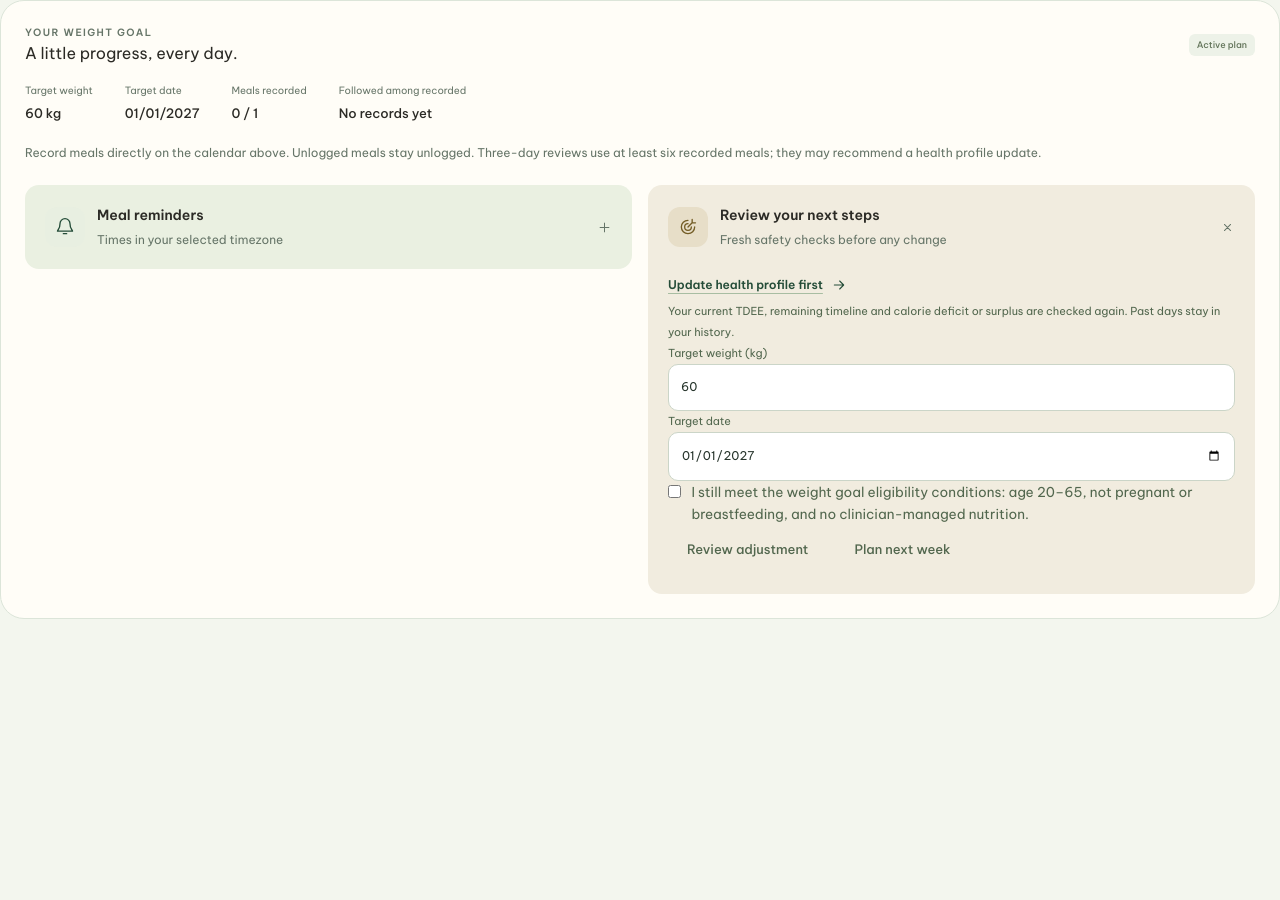
Test: unsafe reassessment displays the server reason and cannot confirm a revision
Click the button "Review adjustment". click: (748,550)
box: x1=668 y1=526 x2=827 y2=574
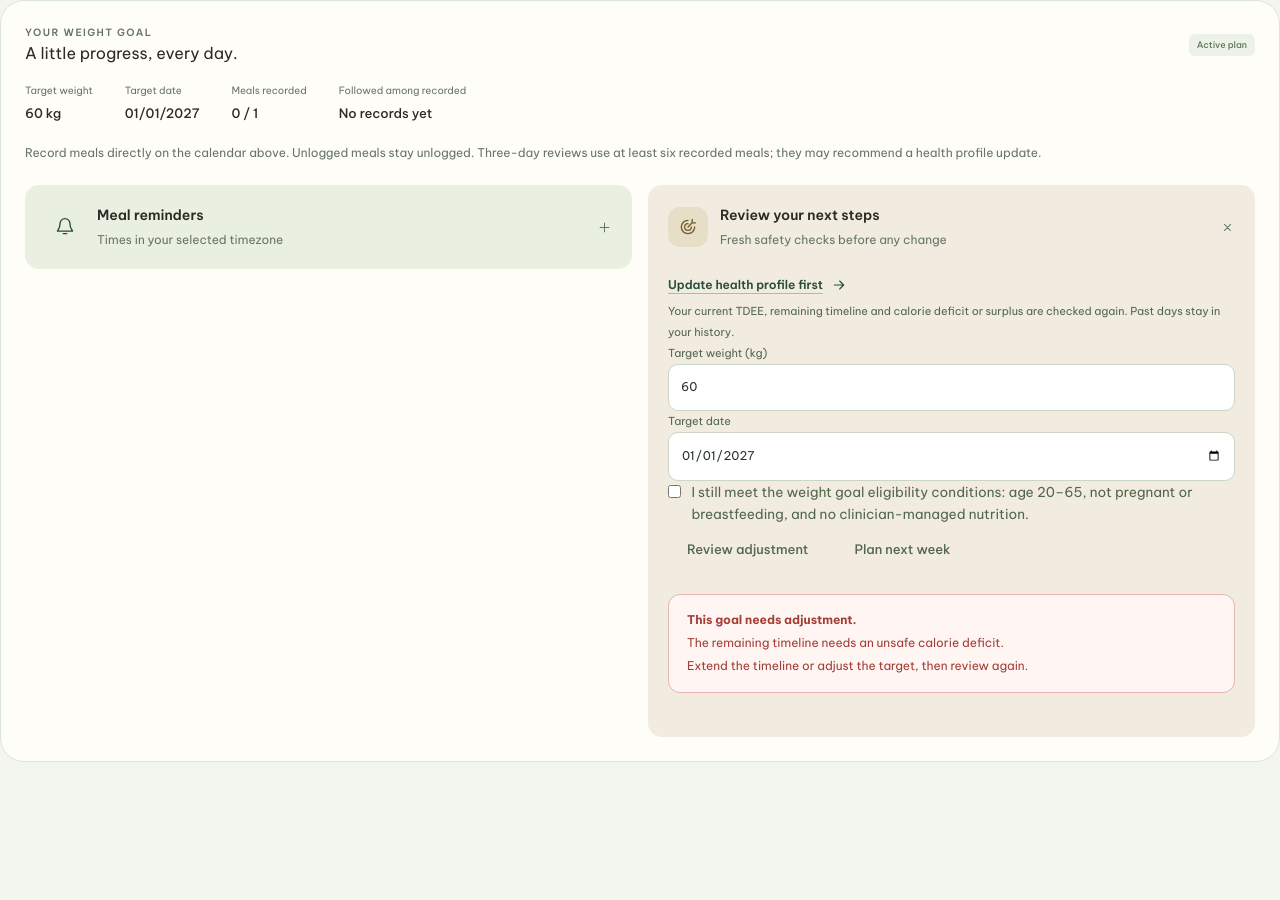
Result: the text "The remaining timeline needs an unsafe calorie deficit." is shown at x1=687 y1=635 x2=1004 y2=650
